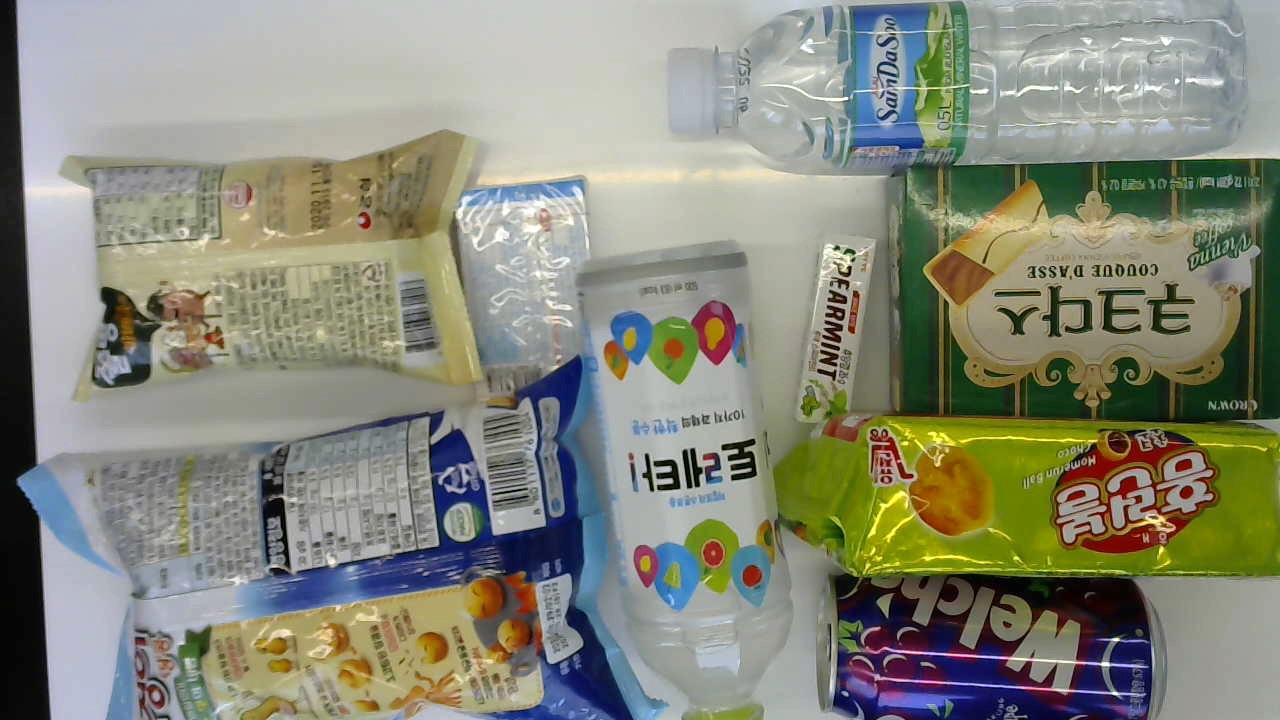ID_gum: (454, 175, 604, 400)
couque_coffee: (883, 153, 1280, 419)
homerunball: (772, 417, 1279, 576)
jjolbyung_ori: (55, 126, 488, 418)
samdasu: (655, 2, 1241, 177)
spearmint: (785, 233, 875, 422)
squid_peanut: (19, 364, 642, 720)
toreta: (584, 234, 794, 720)
welchs: (817, 574, 1166, 719)
